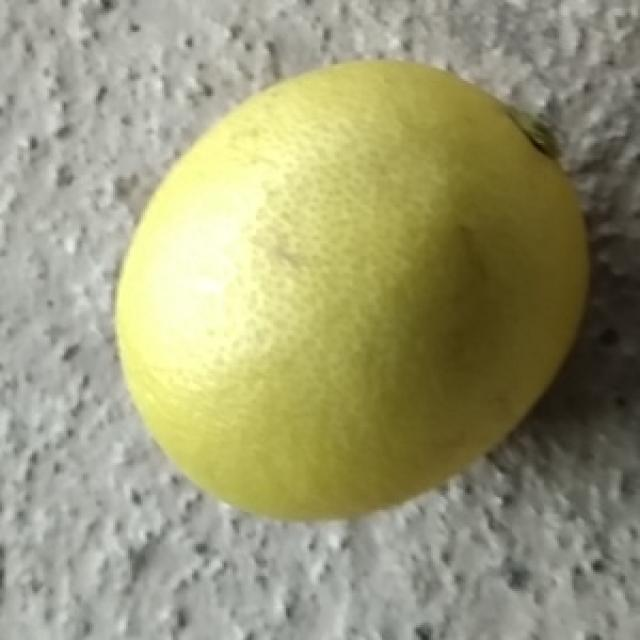Lemon: (116, 53, 592, 521)
